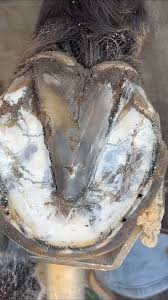horsesole: (1, 66, 167, 261)
